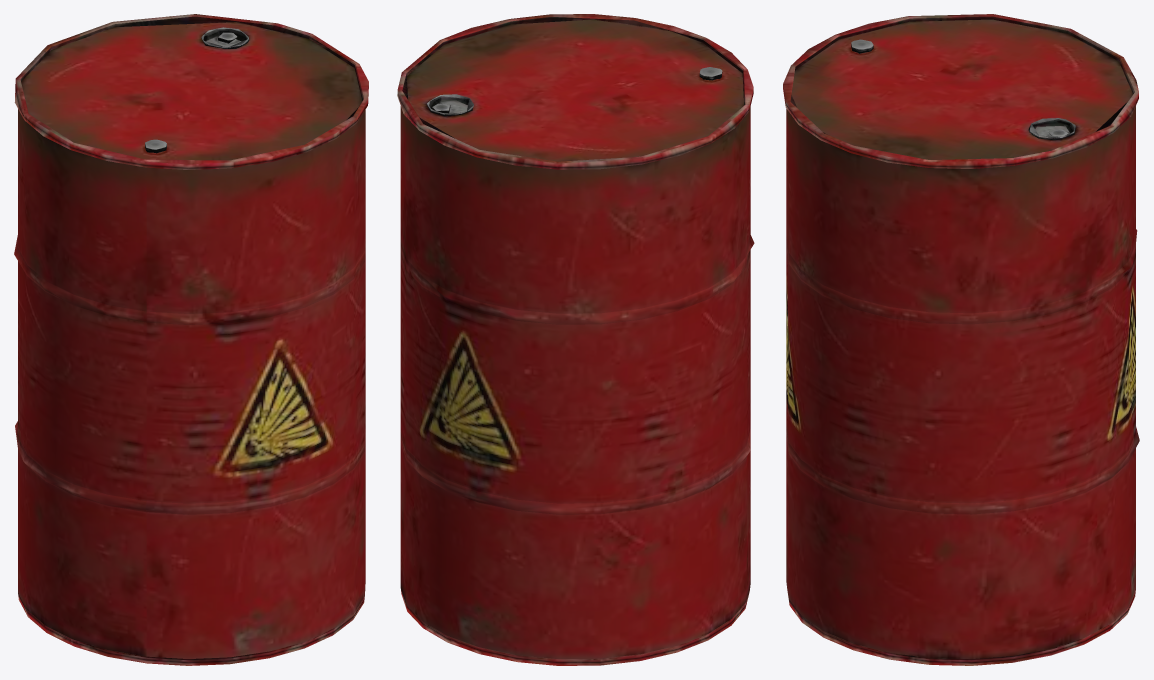
The model's file is hp_room_cc0_barrel.glb.
3 renders of one model, left to right at view 1: azimuth 30°, elevation 25°; view 2: azimuth 150°, elevation 25°; view 3: azimuth 270°, elevation 25°, orthographic.
Parts seen in each view (by area): view 1: Barrel_01; view 2: Barrel_01; view 3: Barrel_01.
Boxes of the visible parts, <box> form: Barrel_01: <box>14,14,368,665</box>; Barrel_01: <box>397,14,754,665</box>; Barrel_01: <box>783,14,1139,665</box>.
Bounding box in the file's own units: 0.5615 × 0.8789 × 0.5615.
Materials: 1 (1 with a texture image).
